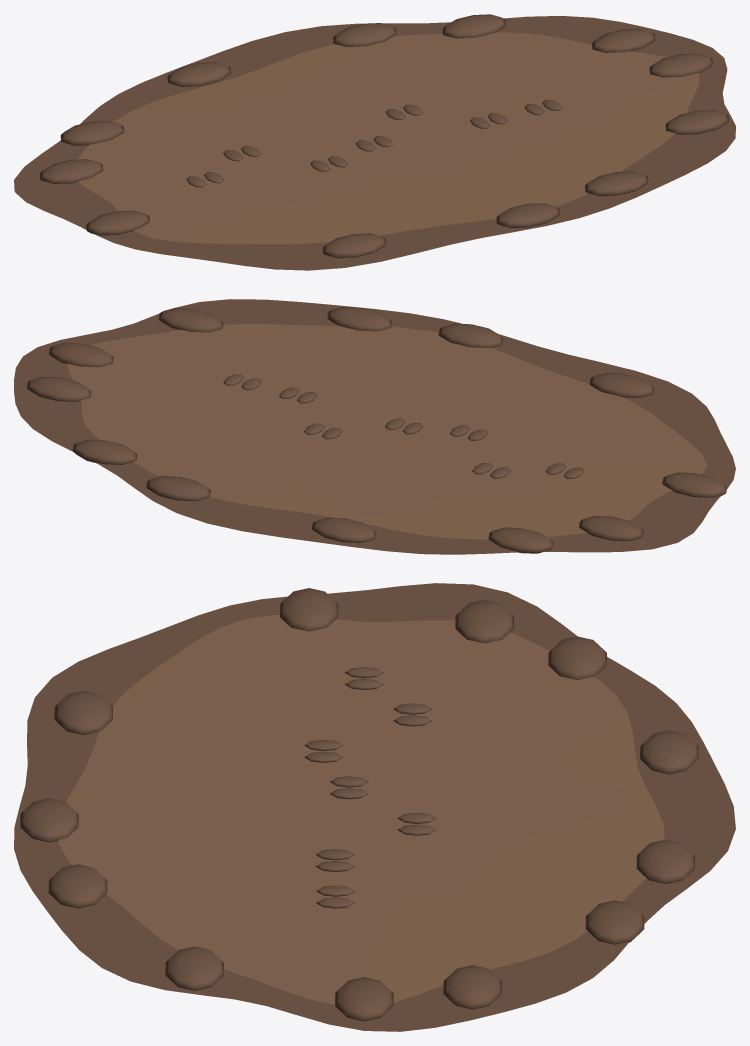
The model's file is pig_mud.glb.
The picture shows the model from 3 angles, top to bottom: view 1: azimuth 30°, elevation 25°; view 2: azimuth 150°, elevation 25°; view 3: azimuth 270°, elevation 25°; orthographic projection. The views are drawn at different scales.
Parts seen in each view (by area): view 1: MudSurface; view 2: MudSurface; view 3: MudSurface.
Part boxes in pixels (box(x1,y1,x2,y2)): MudSurface: box(14, 14, 735, 270); MudSurface: box(14, 299, 735, 554); MudSurface: box(14, 583, 735, 1031).
Size of the model in its own units: 2.59 by 0.05 by 1.76.
